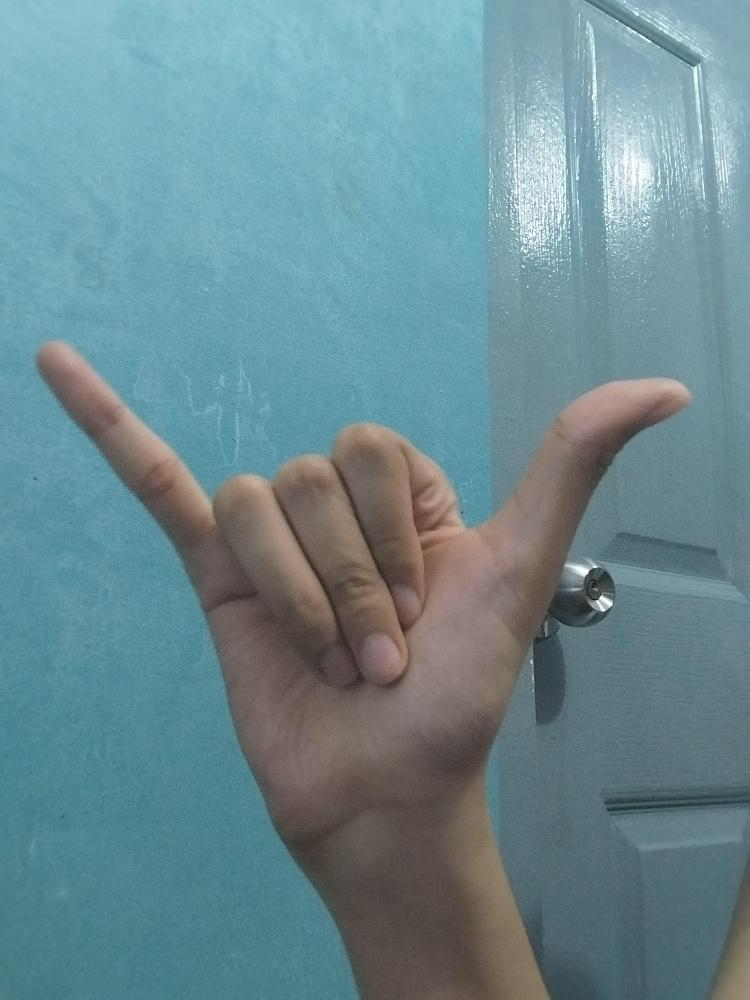y: (30, 334, 688, 795)
